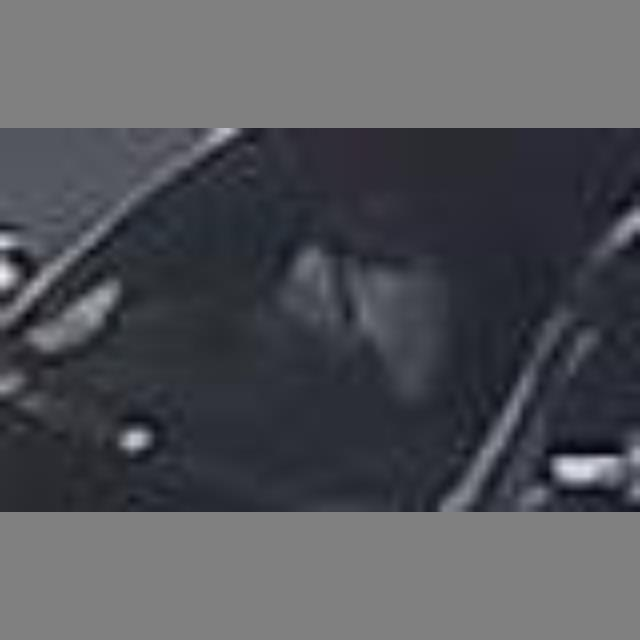pakai: (224, 192, 456, 400)
